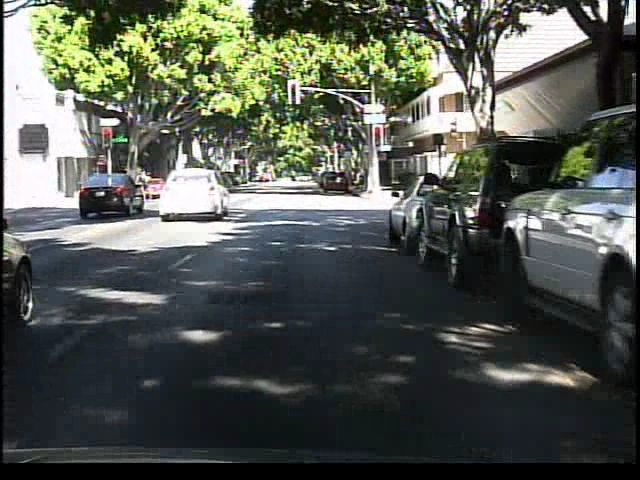person: (136, 162, 157, 196)
